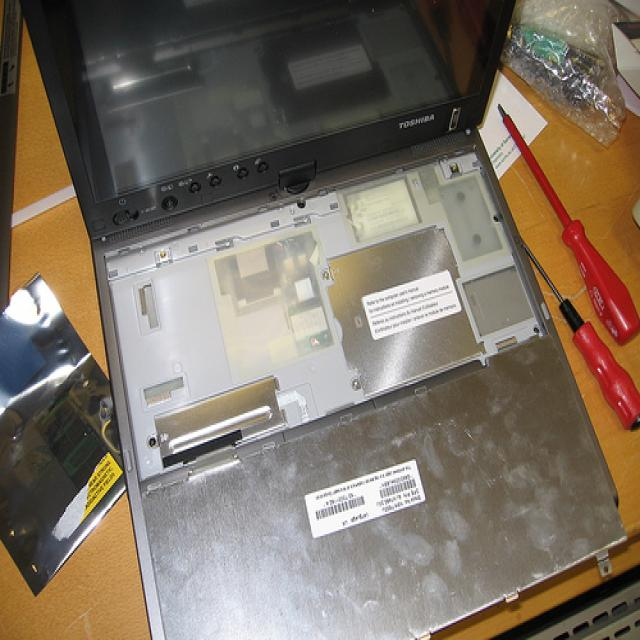screw driver: (490, 70, 640, 437)
